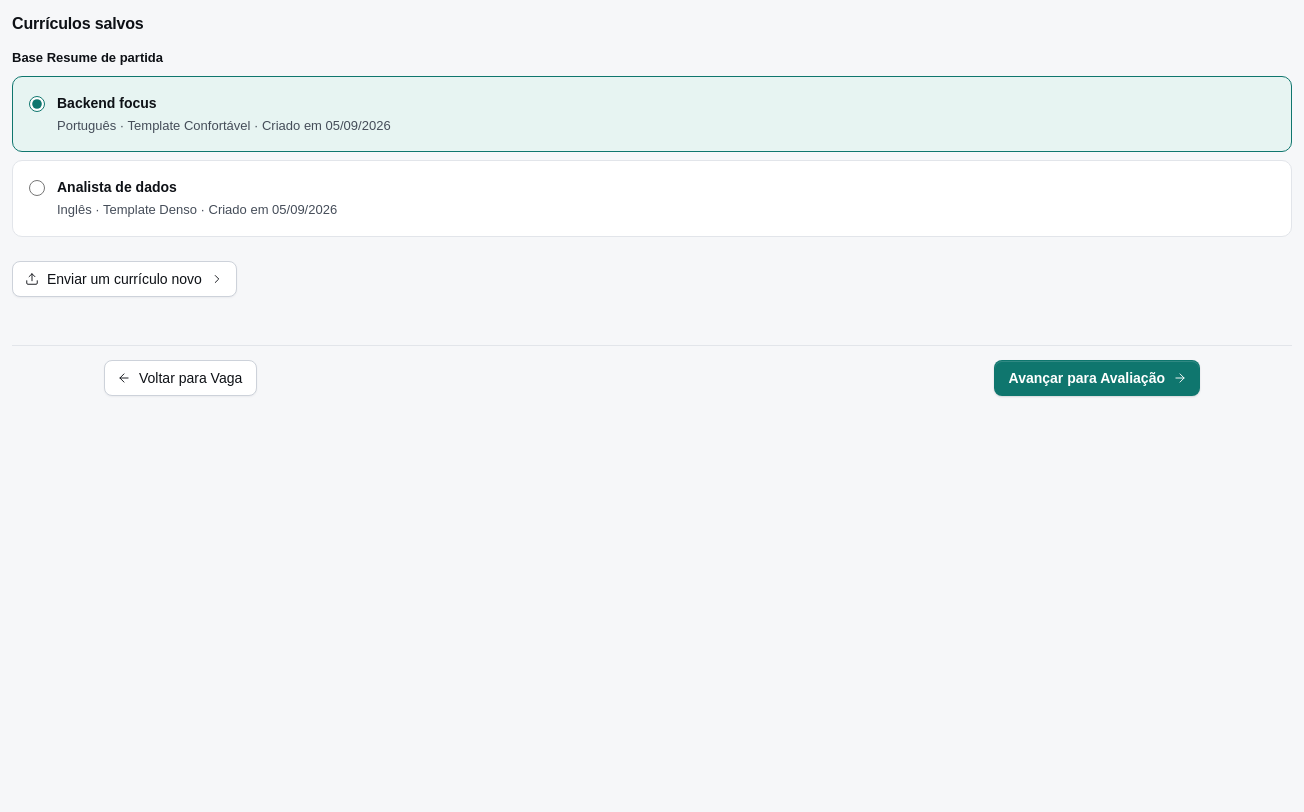
Test: ResumeStep › should keep the upload behind a disclosure when there are saved resumes
Expected: the field labelled "Arquivo do currículo" is not shown
Click the button "Enviar um currículo novo" at [124, 278], box [12,260,237,296]
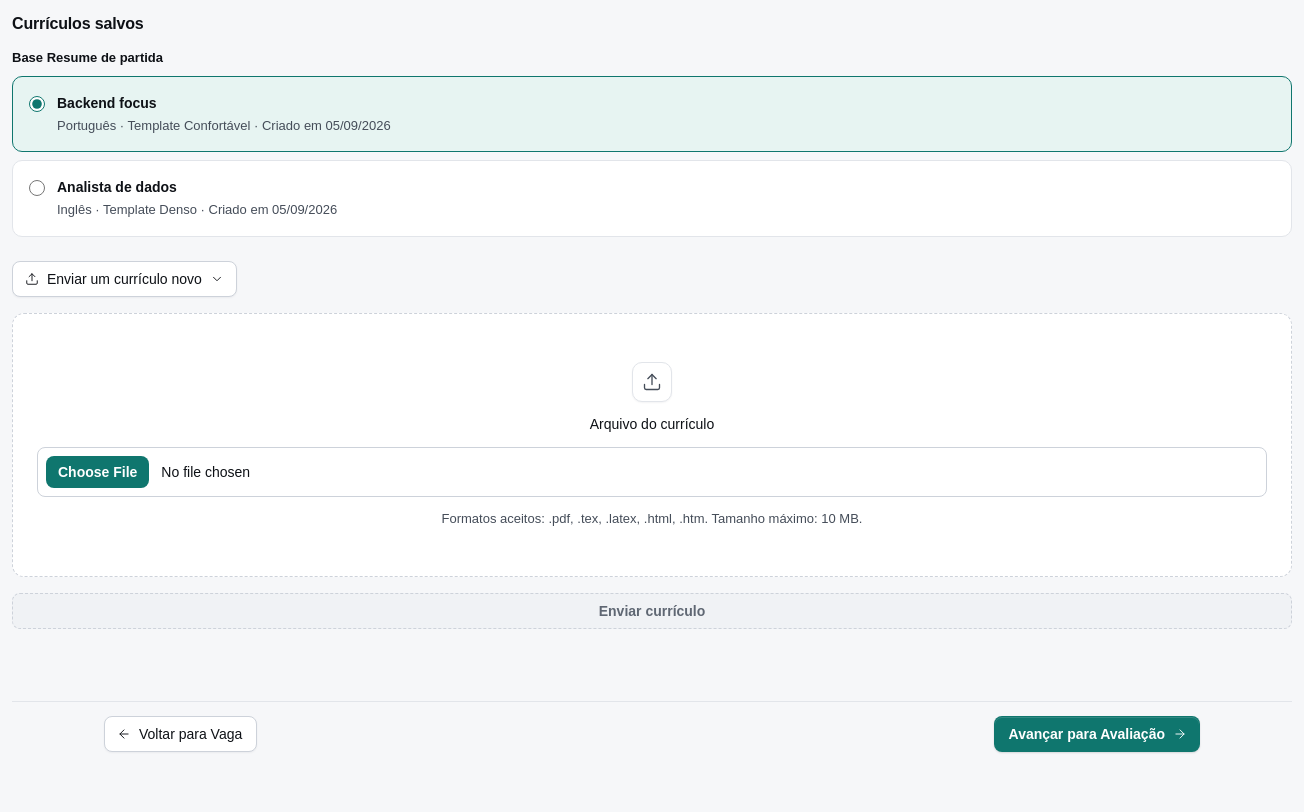
Expected: the file field labelled "Arquivo do currículo" is shown, [37,446,1267,496]
Expected: the button "Enviar currículo" is shown, [12,593,1292,629]
